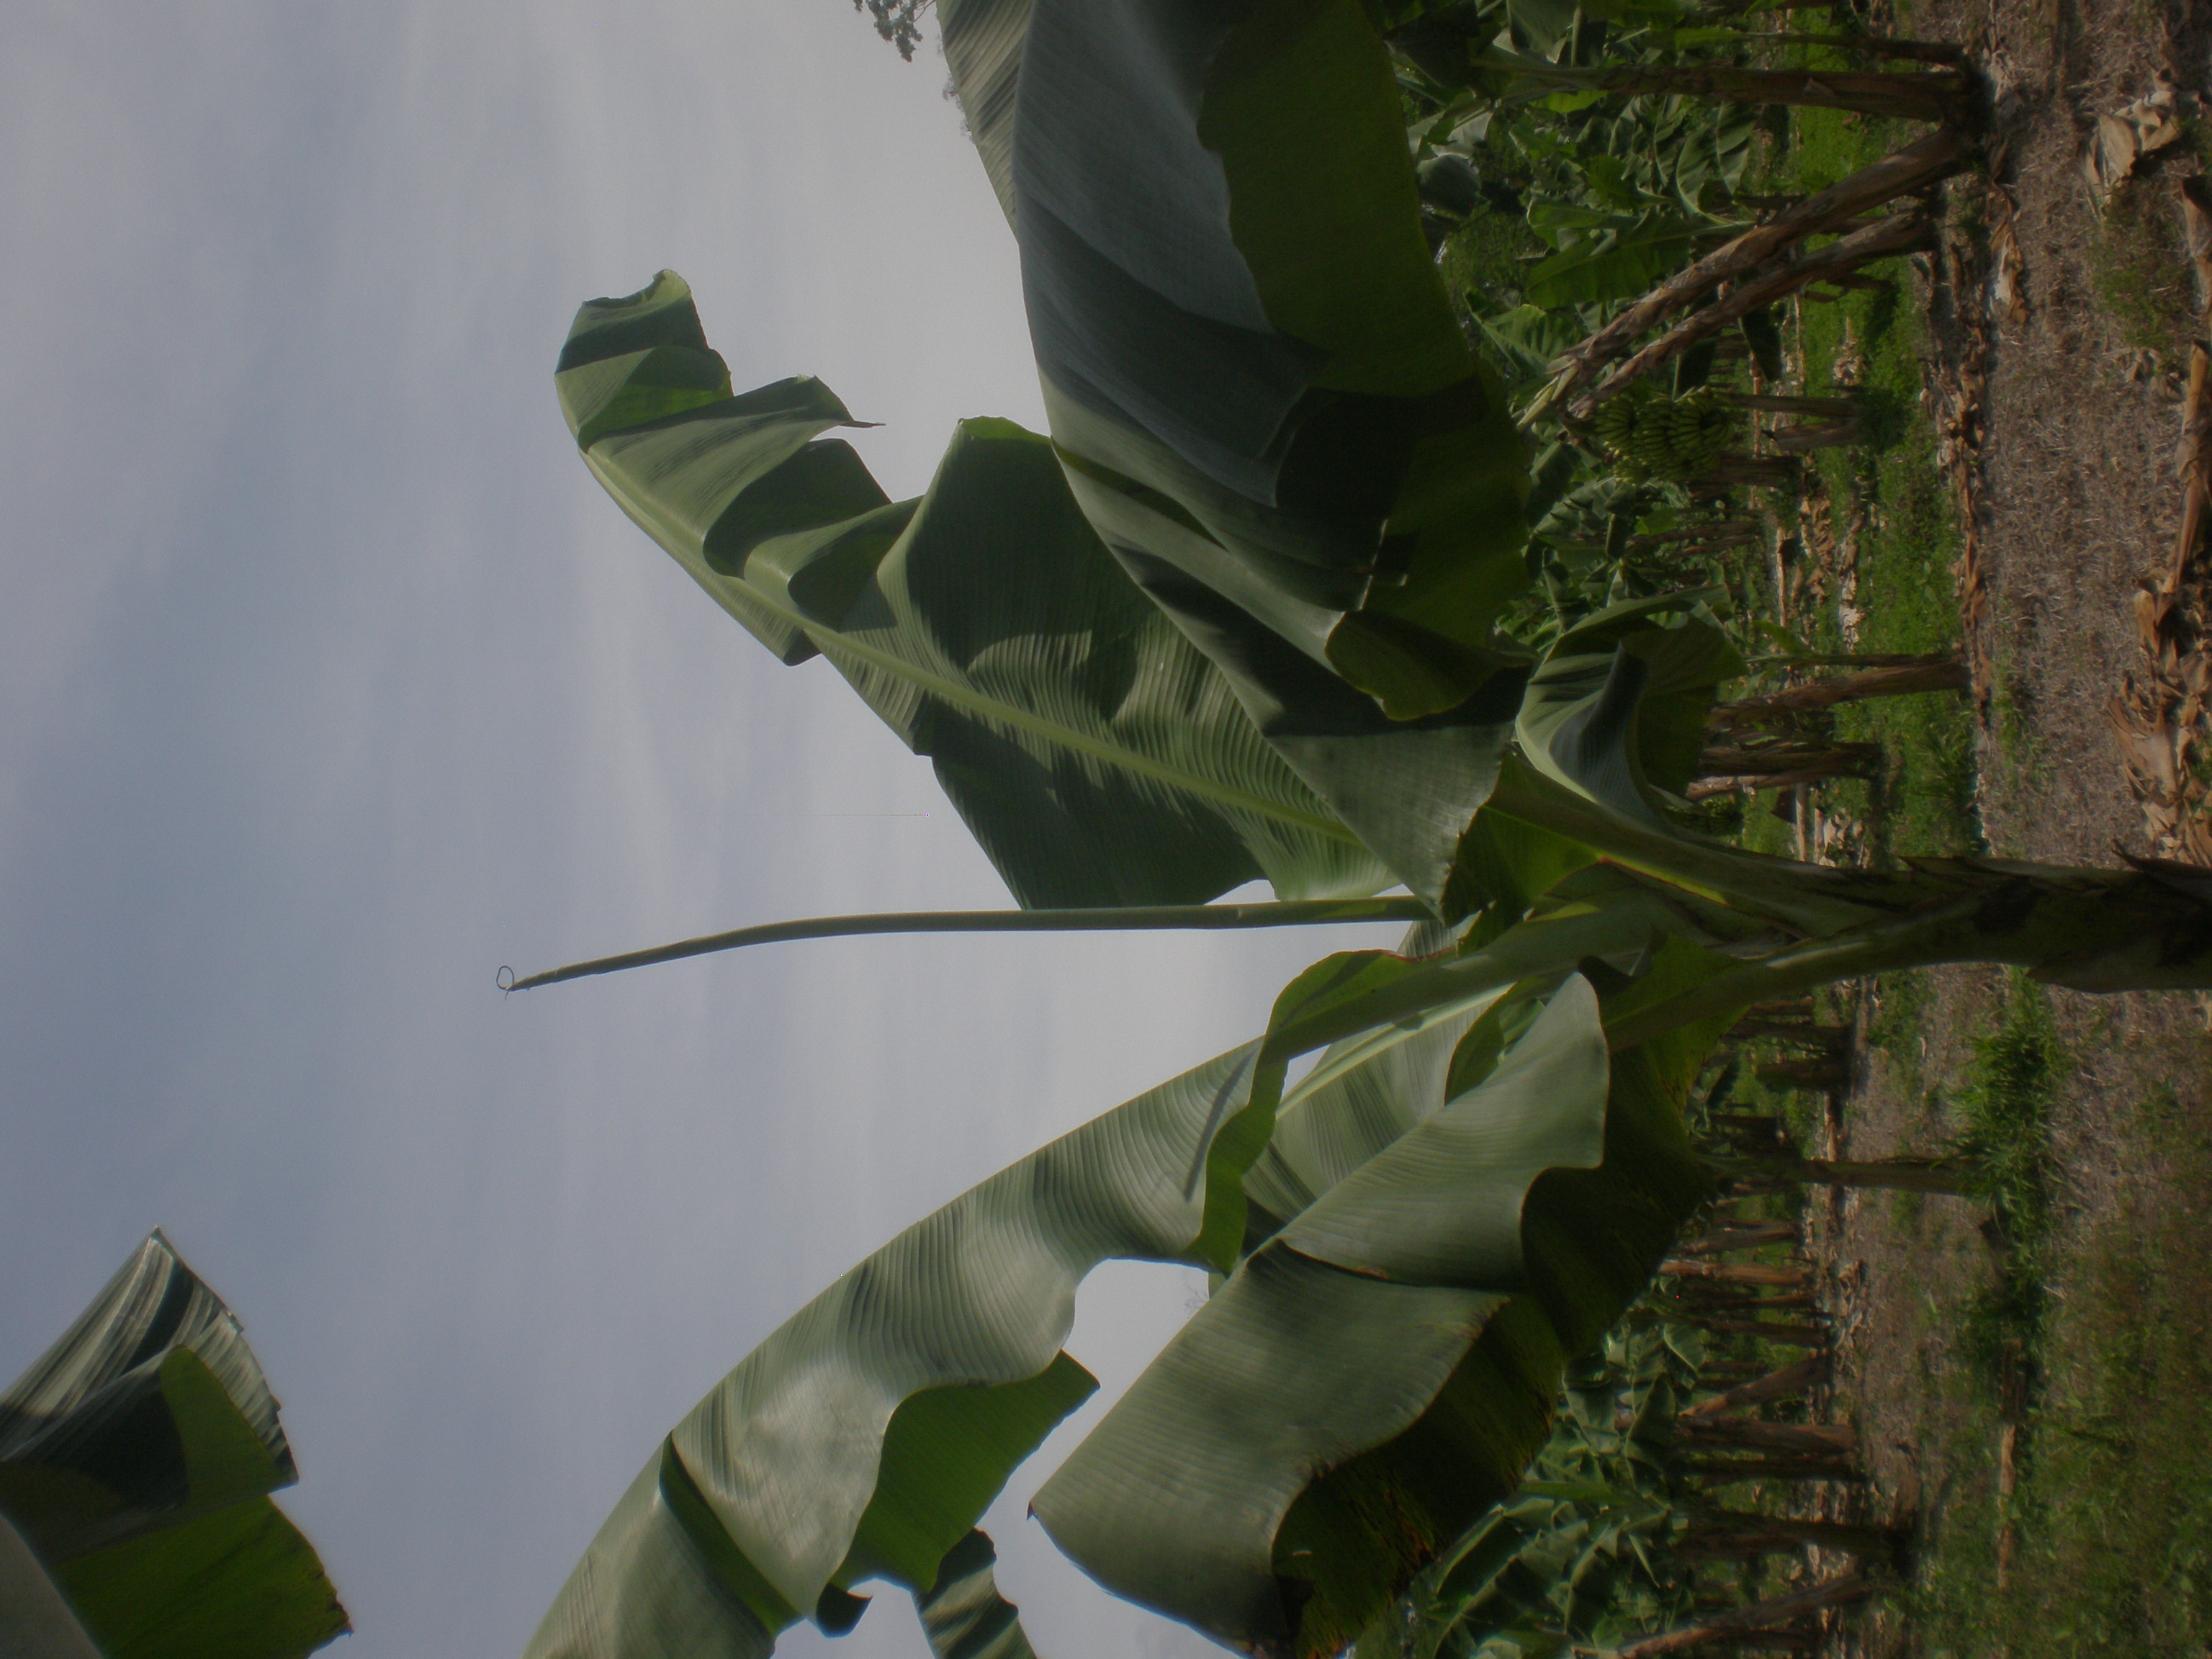candleleafs: (498, 897, 1395, 993)
